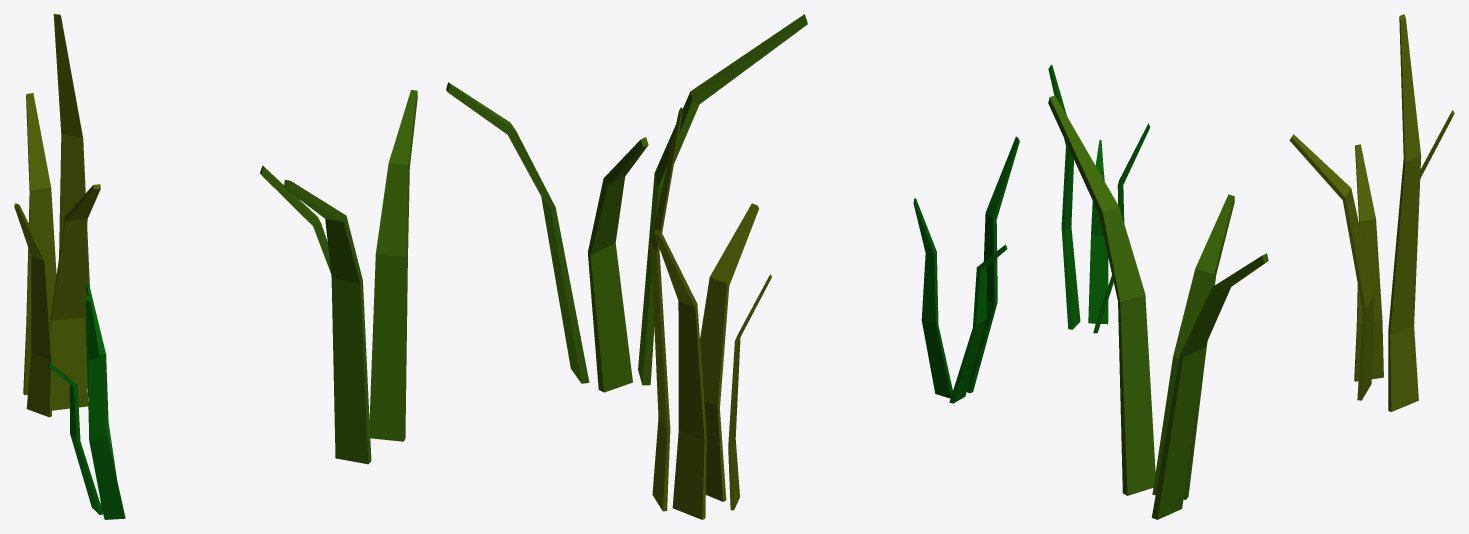
The model's file is yerba.obj.
3 views of the same model, side by side, from view 1: azimuth 30°, elevation 25°; view 2: azimuth 150°, elevation 25°; view 3: azimuth 270°, elevation 25° (orthographic). The views are drawn at different scales.
Parts seen in each view (by area): view 1: Grass_2, Grass_5, Grass_6; view 2: Grass_5, Grass_2, Grass_6; view 3: Grass_2, Grass_5, Grass_6.
Boxes of the visible parts, box(x1,y1,x2,y2) form: Grass_2: box(260, 90, 417, 464); Grass_5: box(14, 14, 100, 417); Grass_6: box(48, 283, 125, 519); Grass_5: box(650, 107, 771, 519); Grass_2: box(446, 14, 807, 392); Grass_6: box(913, 136, 1019, 403); Grass_2: box(1048, 95, 1268, 519); Grass_5: box(1289, 14, 1454, 411); Grass_6: box(1048, 65, 1150, 333).
Size of the model in its own units: 2.97 by 2.47 by 2.31.
1 material, 1 textured.
